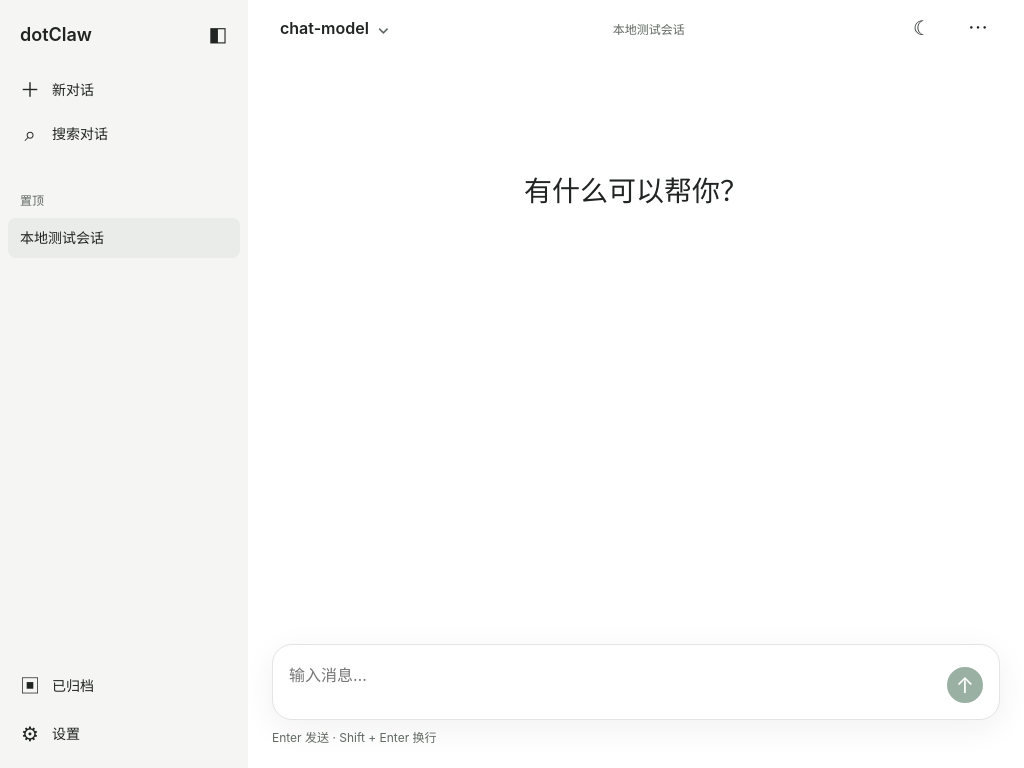
Test: 对话工作区 › 删除失败保留列表，成功 204 不读取 JSON 并清理偏好
Step 1. Click the button named "当前会话更多操作" → click(978, 28), box [956,6,1000,50]
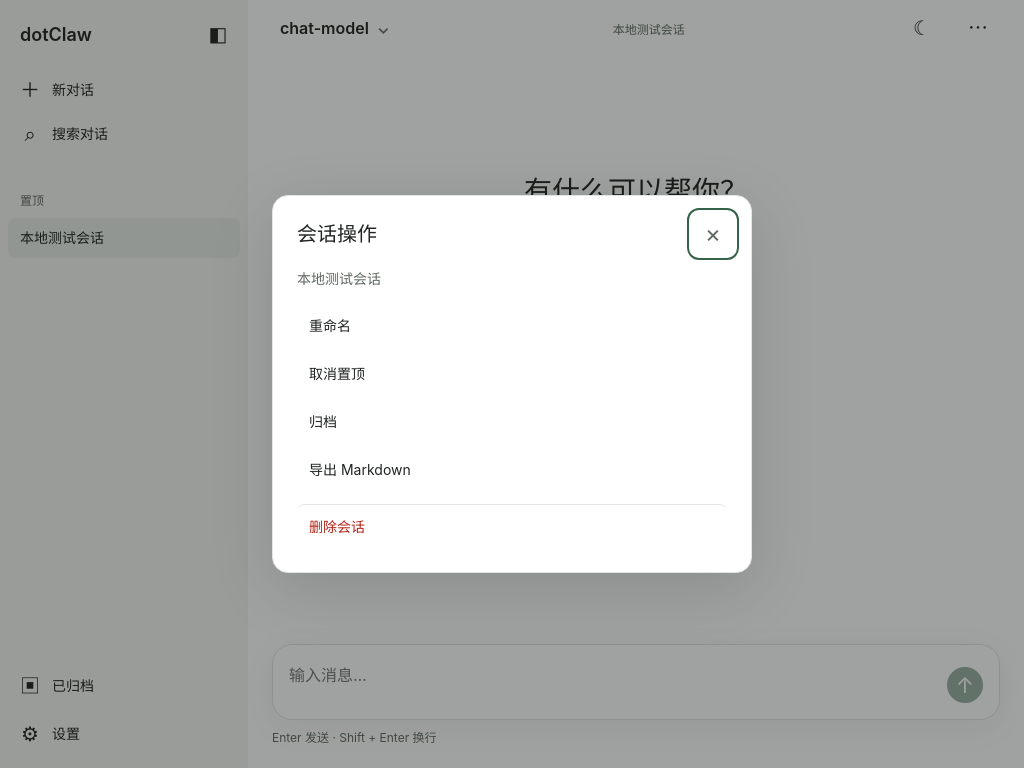
Step 2. Click the button "删除会话" → click(337, 526), box [297,504,727,548]
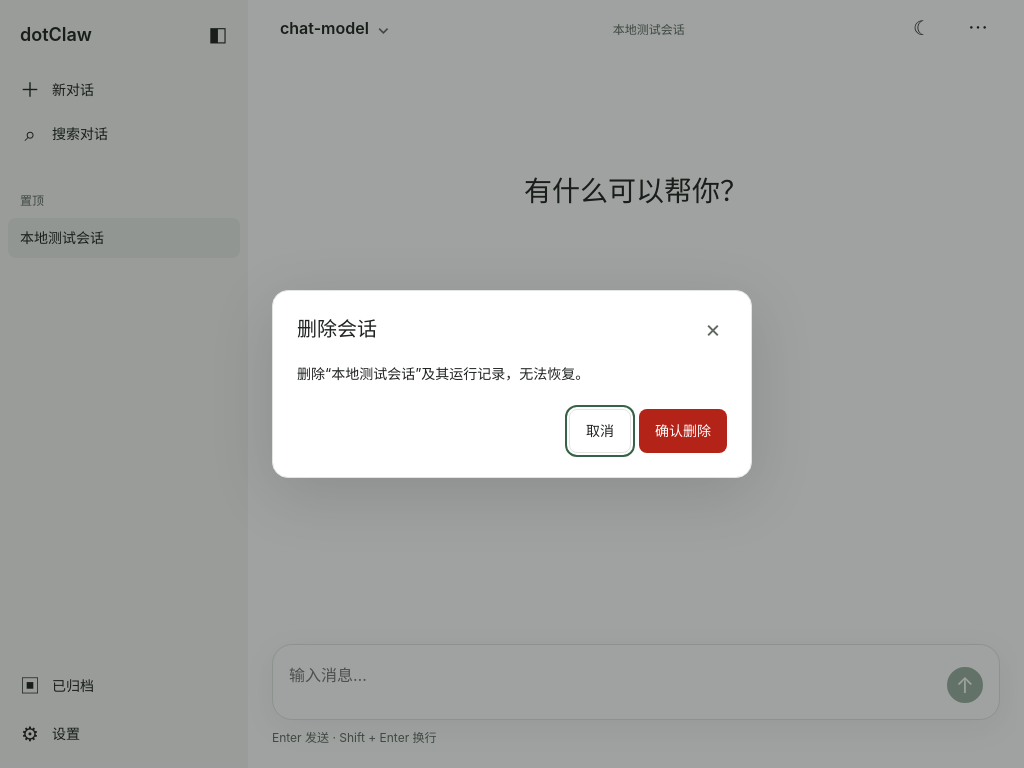
Step 3. Click the button "确认删除" → click(683, 431), box [639,409,727,453]
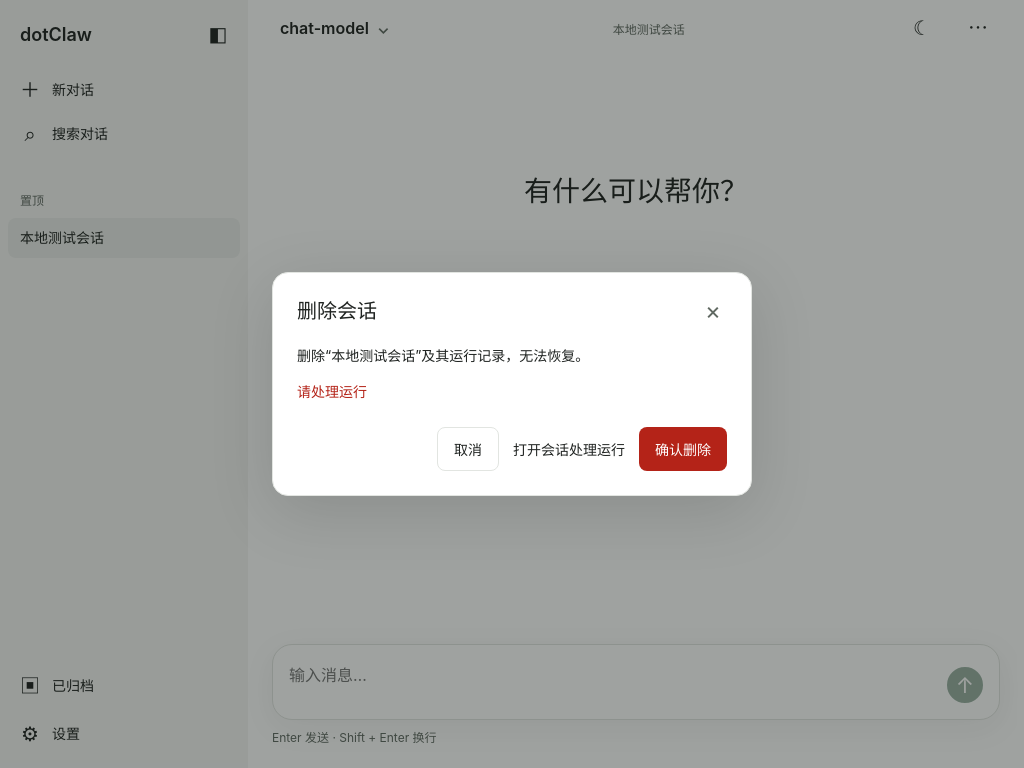
Expected: the button "本地测试会话" is shown, [8,218,196,258]
Expected: the text "请处理运行" is shown, [297,383,367,400]
Step 4. Click the button "确认删除" → click(683, 449), box [639,427,727,471]
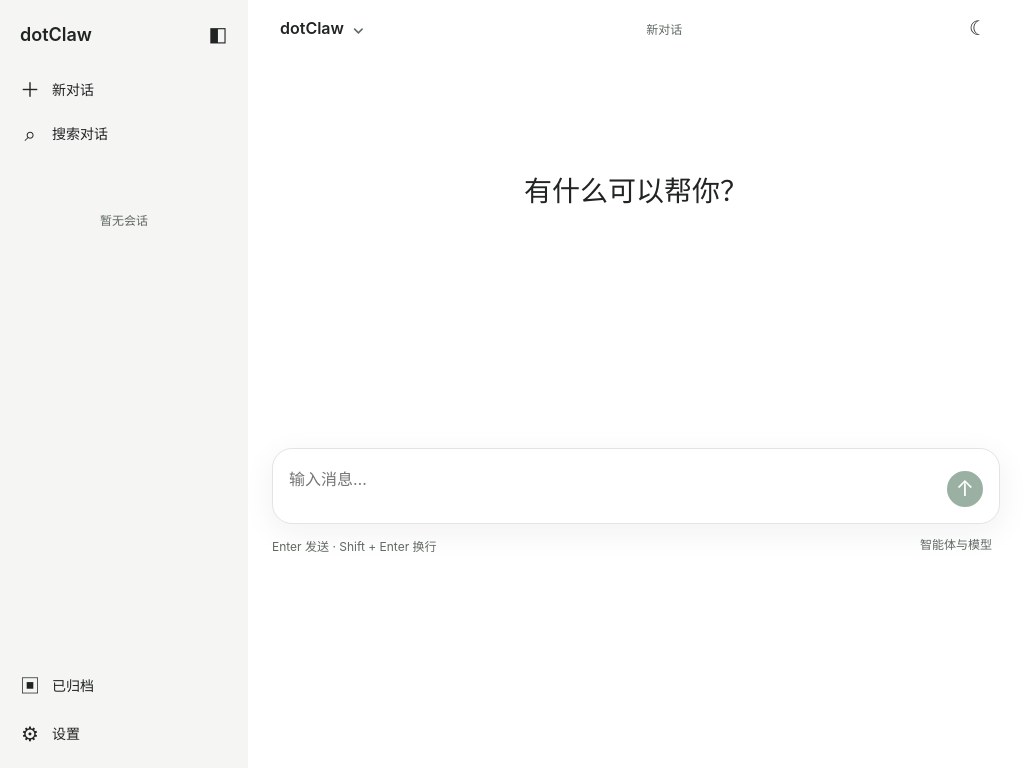
Expected: the button "本地测试会话" is gone
